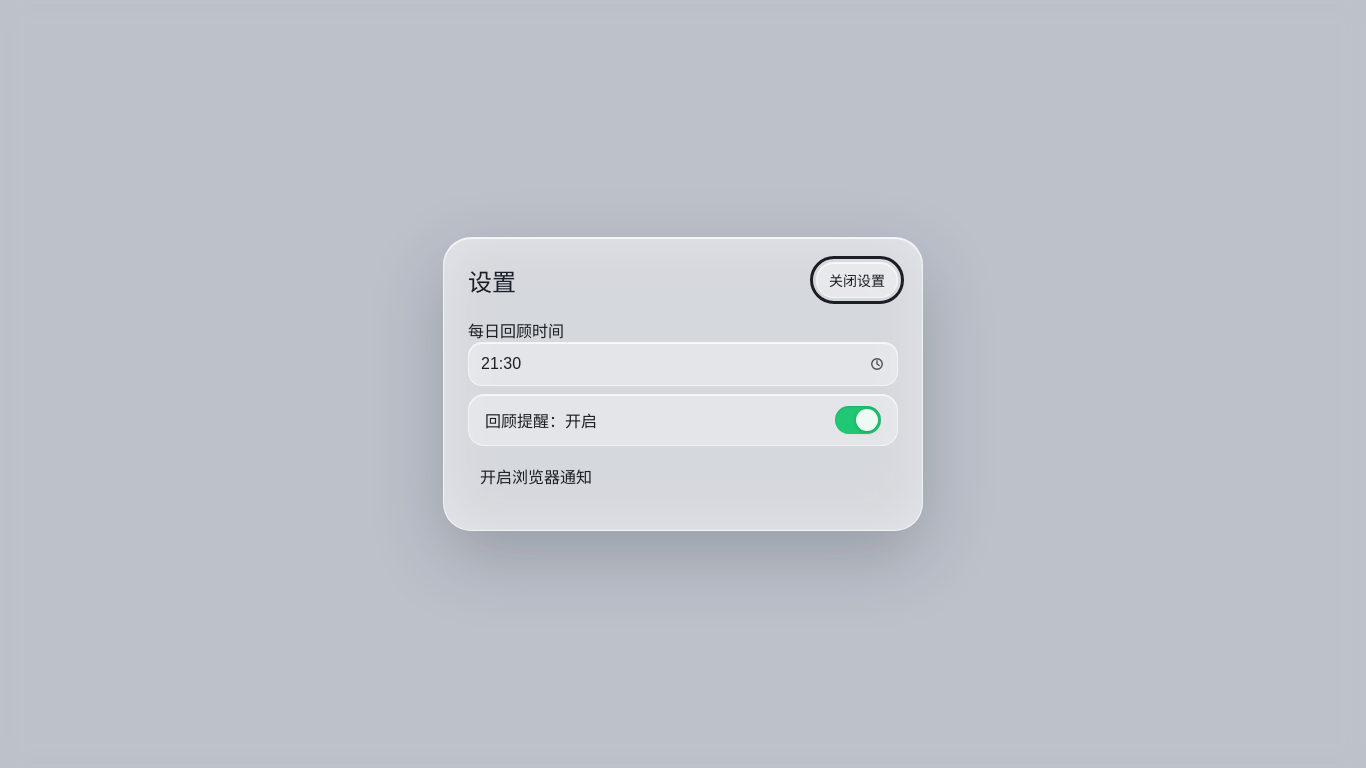
Test: SettingsPanel › announces a notification permission failure and allows retrying
The image size is (1366, 768).
Step 1. Click the button "开启浏览器通知" → (536, 476), box x1=468 y1=454 x2=604 y2=498
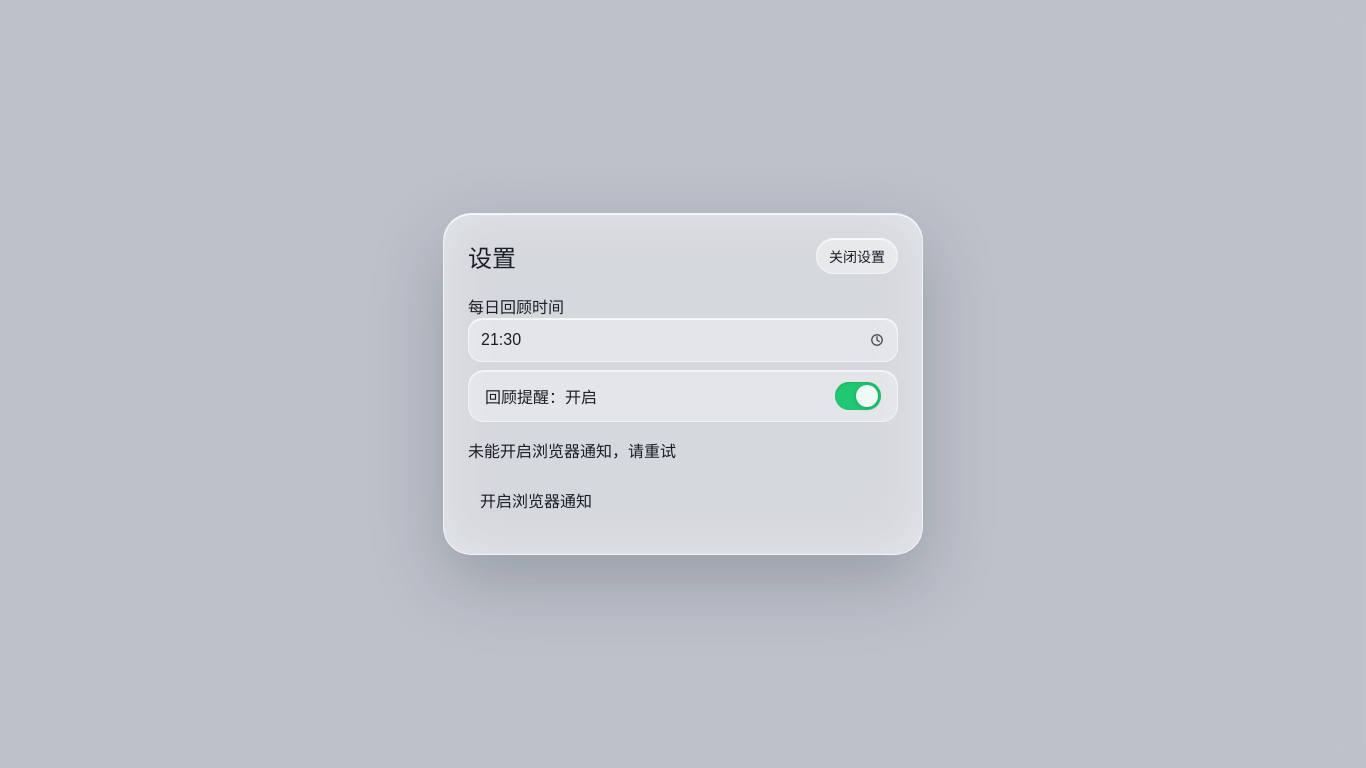
Expected: the button "开启浏览器通知" is enabled, x1=468 y1=478 x2=604 y2=522
Expected: the message reads "未能开启浏览器通知，请重试", x1=468 y1=443 x2=676 y2=460
